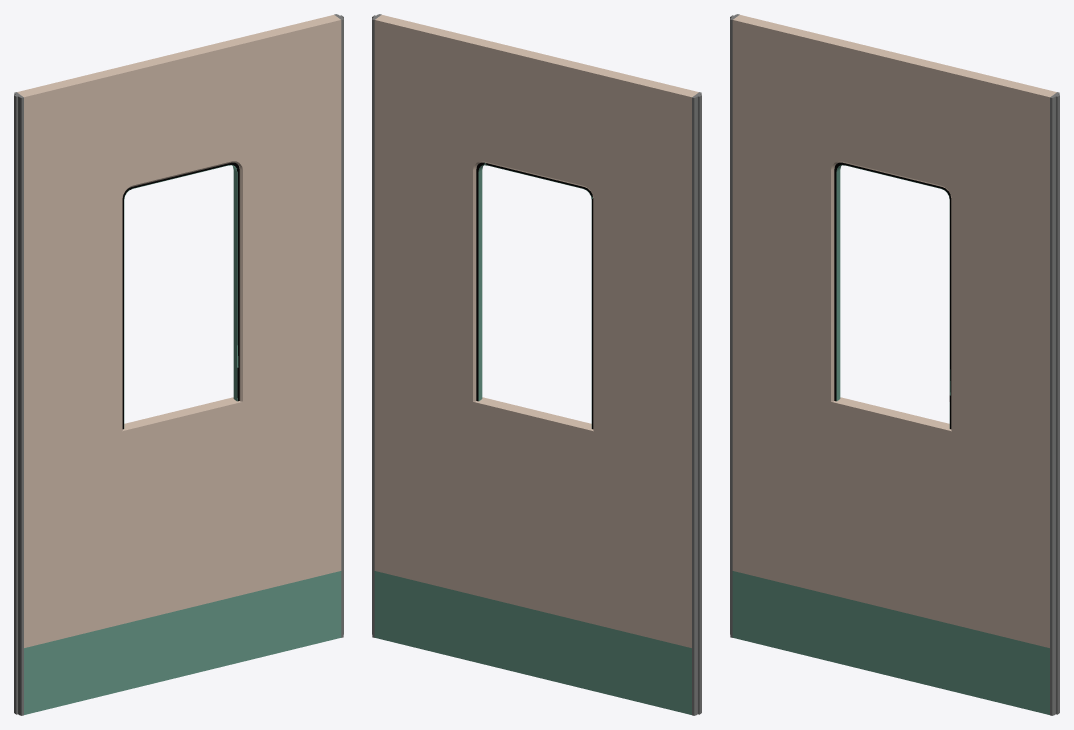
The model's file is DoorWall.fbx.
3 renders of one model, left to right at view 1: azimuth 30°, elevation 25°; view 2: azimuth 150°, elevation 25°; view 3: azimuth 330°, elevation 25°, orthographic.
Parts seen in each view (by area): view 1: DoorWall1, DoorWall2; view 2: DoorWall1, DoorWall2; view 3: DoorWall1, DoorWall2.
Part boxes in pixels (x1=…): DoorWall1: x1=14, y1=14, x2=343, y2=455; DoorWall2: x1=14, y1=375, x2=343, y2=715; DoorWall1: x1=372, y1=14, x2=701, y2=455; DoorWall2: x1=372, y1=375, x2=701, y2=715; DoorWall1: x1=730, y1=14, x2=1059, y2=455; DoorWall2: x1=730, y1=375, x2=1059, y2=715.
Size of the model in its own units: 796 by 1434 by 31.72.
Materials: 2 (2 with a texture image).
